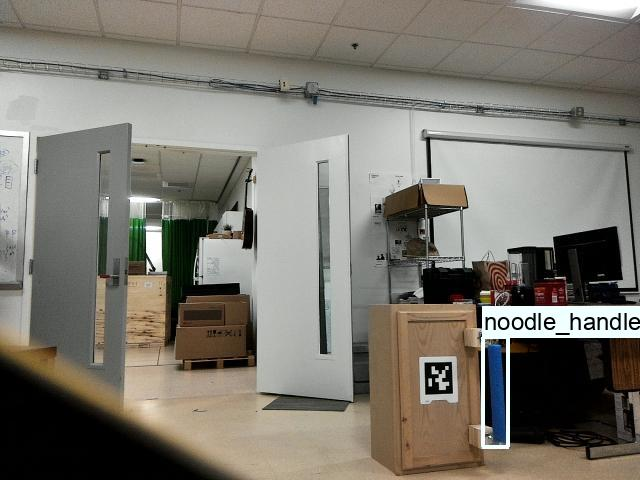noodle_handle: (481, 340, 507, 447)
